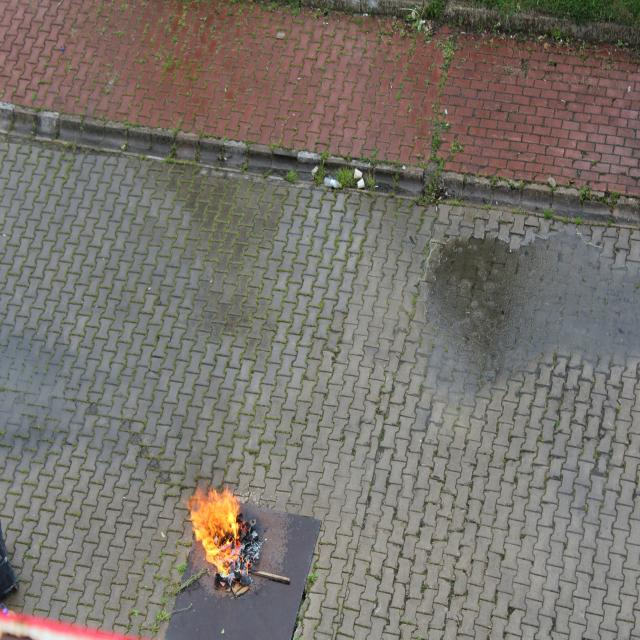fire: (187, 480, 246, 586)
